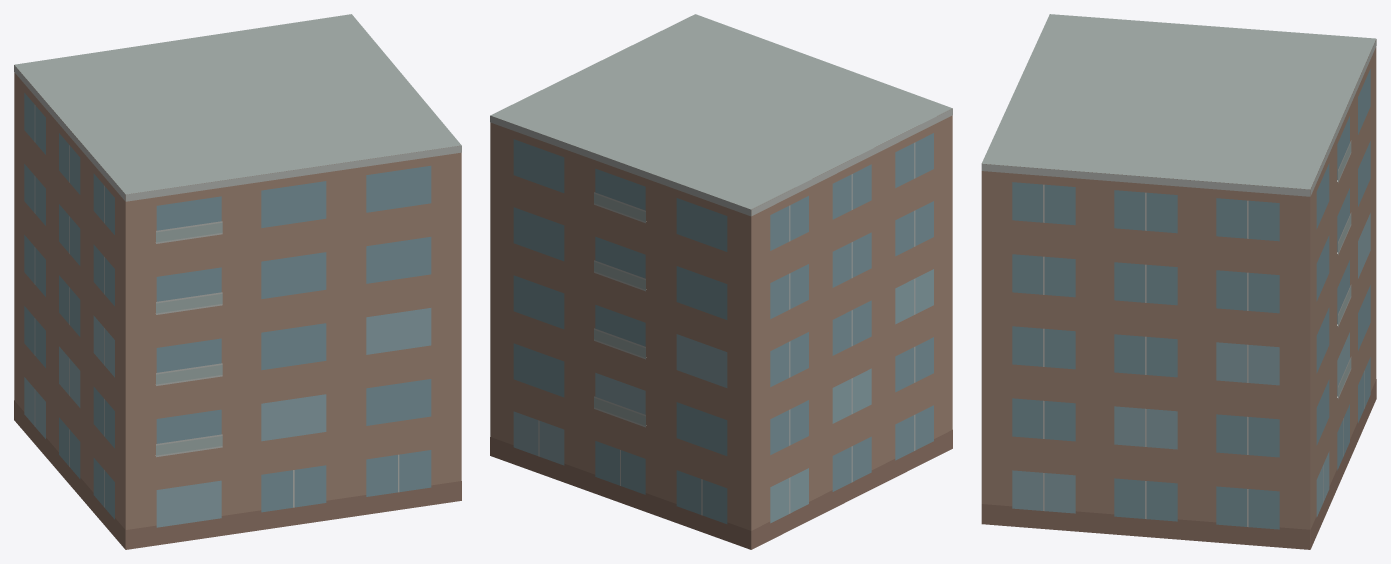
Rendered from survey-upis-32536979.glb.
The picture shows the model from 3 angles, left to right: view 1: azimuth 30°, elevation 25°; view 2: azimuth 150°, elevation 25°; view 3: azimuth 270°, elevation 25°; orthographic projection. The views are drawn at different scales.
Visible parts, largest first — view 1: survey-upis-32536979.tmp; view 2: survey-upis-32536979.tmp; view 3: survey-upis-32536979.tmp.
Part boxes in pixels (x1,y1,x2,y2): survey-upis-32536979.tmp: (14, 14, 461, 549); survey-upis-32536979.tmp: (490, 14, 952, 549); survey-upis-32536979.tmp: (981, 14, 1376, 549).
Size of the model in its own units: 12.59 by 12.05 by 11.98.
